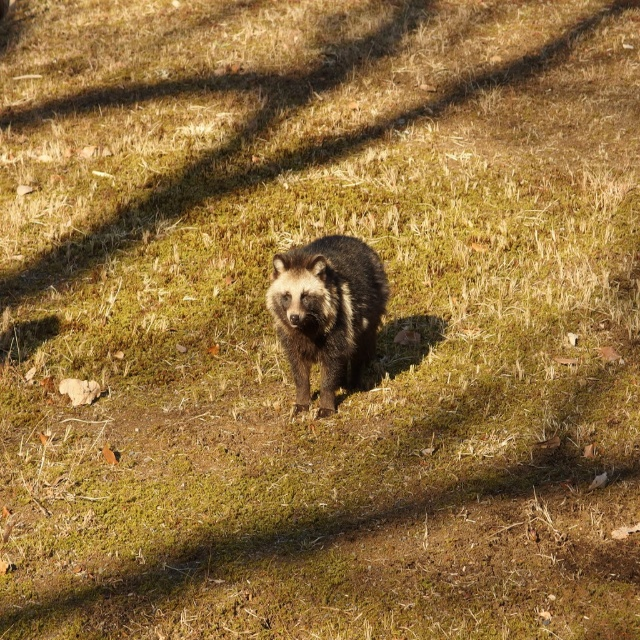Raccoon: (267, 229, 390, 422)
